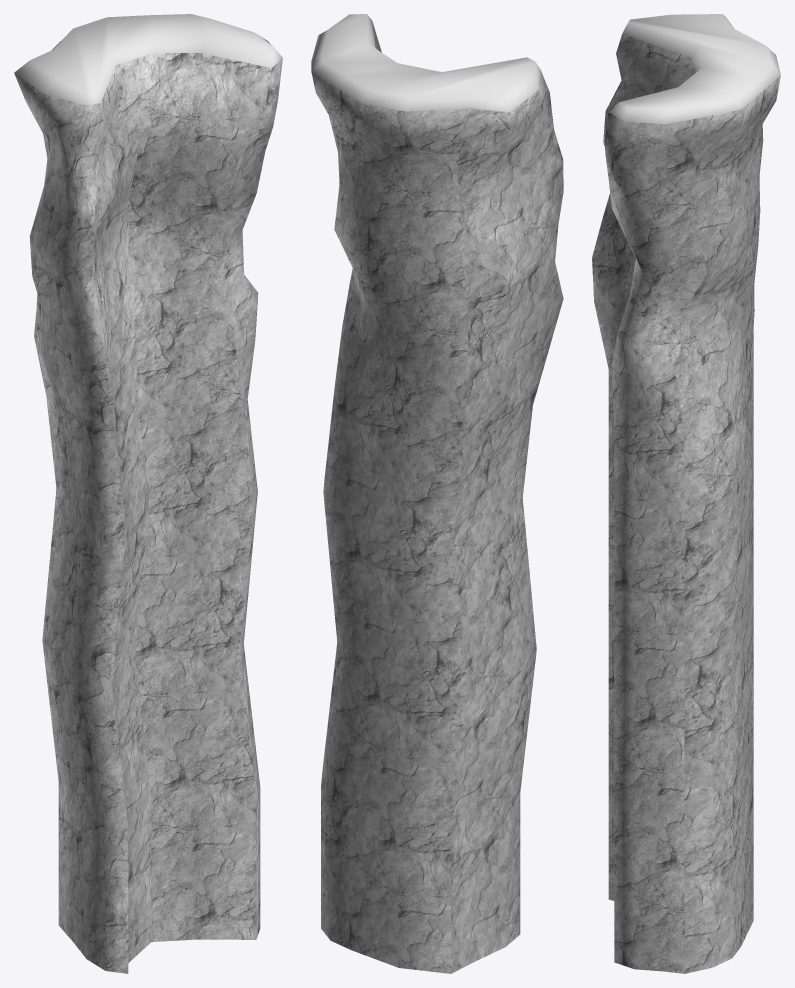
File: Clif_New_04.fbx
The picture shows the model from 3 angles, left to right: view 1: azimuth 30°, elevation 25°; view 2: azimuth 150°, elevation 25°; view 3: azimuth 270°, elevation 25°; orthographic projection.
Parts seen in each view (by area): view 1: Clif_New_04; view 2: Clif_New_04; view 3: Clif_New_04.
Part boxes in pixels (x1,y1,x2,y2): Clif_New_04: (14,14,282,973); Clif_New_04: (311,14,563,973); Clif_New_04: (592,14,780,973).
Bounding box in the file's own units: 18552 × 70083 × 13849.
